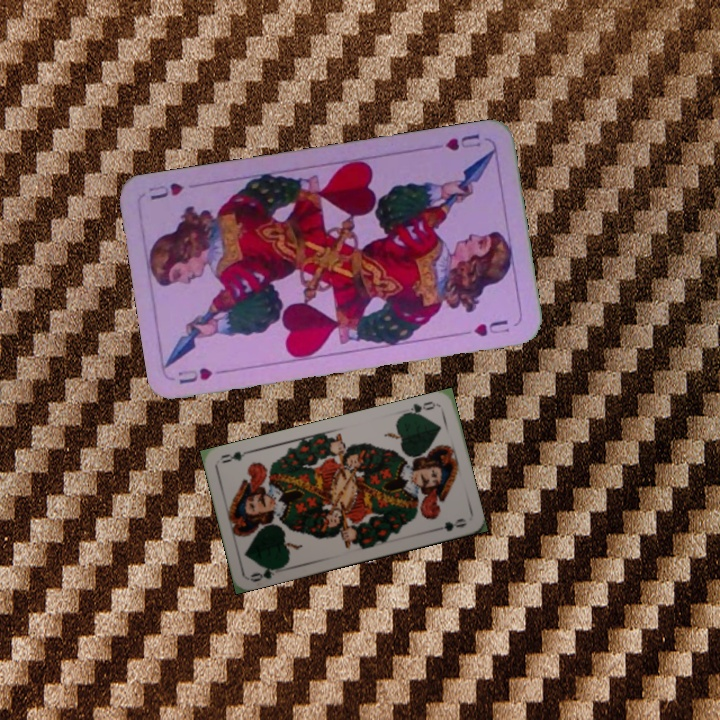GO: (246, 562, 286, 585), (400, 397, 440, 418)
HU: (174, 363, 231, 387), (441, 130, 483, 153)
